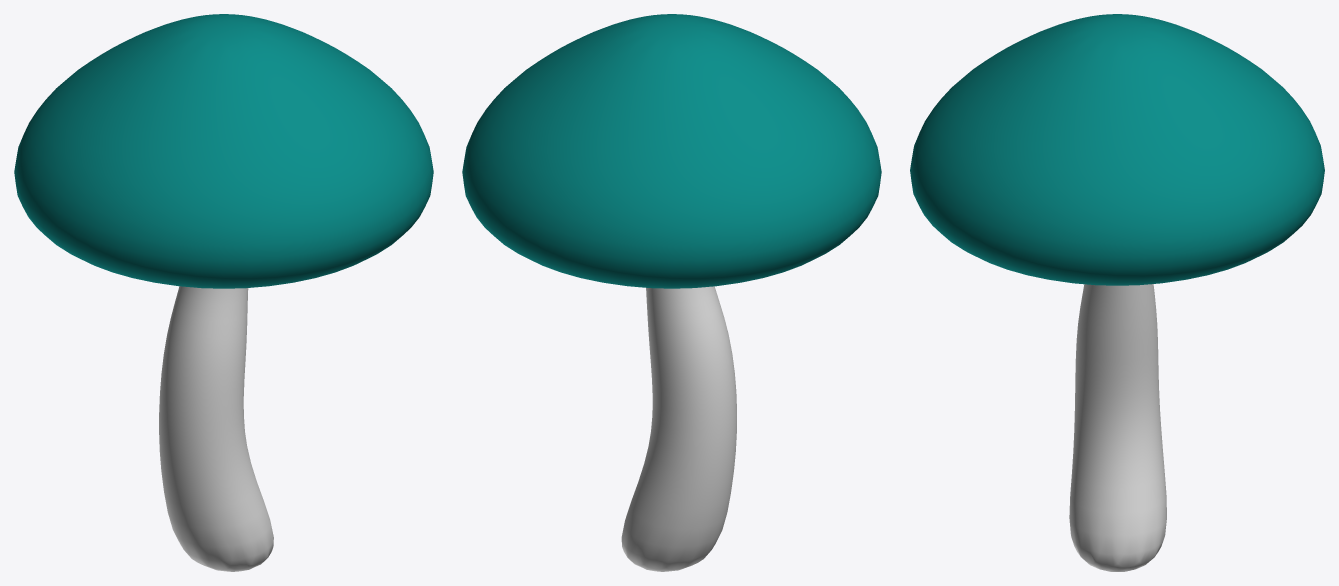
File: Mushroom01.glb
3 views of the same model, side by side, from view 1: azimuth 30°, elevation 25°; view 2: azimuth 150°, elevation 25°; view 3: azimuth 270°, elevation 25° (orthographic).
Parts seen in each view (by area): view 1: Circle, Circle.001; view 2: Circle, Circle.001; view 3: Circle, Circle.001.
Boxes of the visible parts, x1,y1,x2,y2 form: Circle: (14, 14, 433, 288); Circle.001: (159, 286, 273, 571); Circle: (462, 14, 881, 288); Circle.001: (621, 286, 736, 571); Circle: (910, 14, 1324, 285); Circle.001: (1069, 284, 1166, 571).
Size of the model in its own units: 2.36 by 3.35 by 2.36.
1 material, 1 textured.
